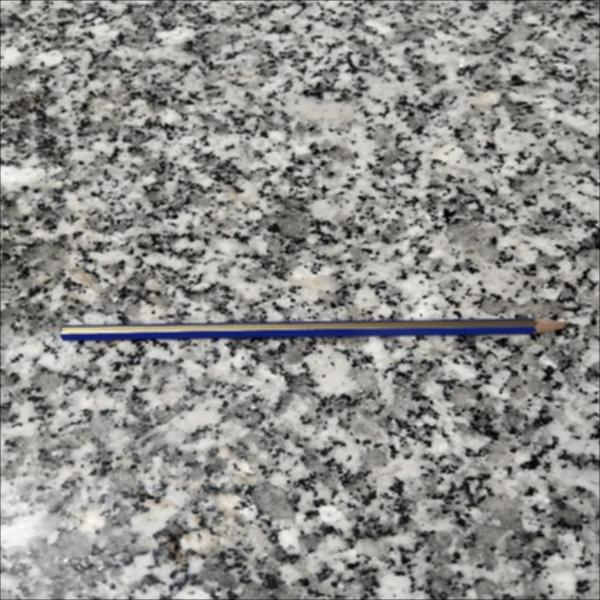pencil: (56, 315, 585, 348)
